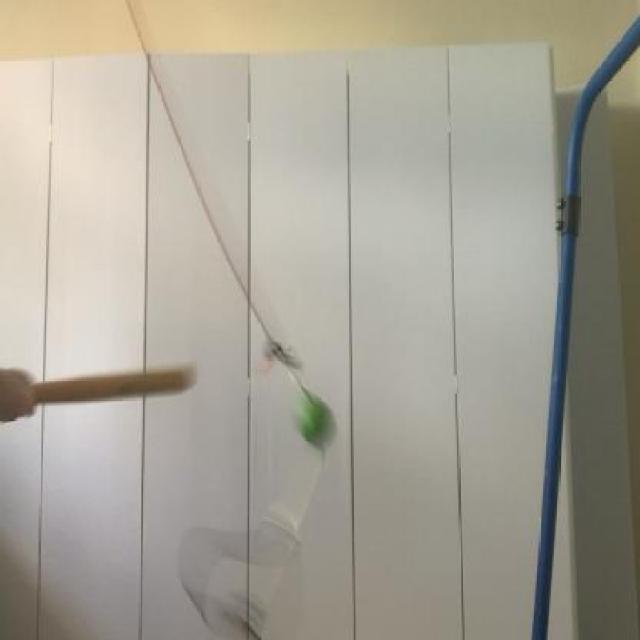baseball: (274, 380, 338, 448)
